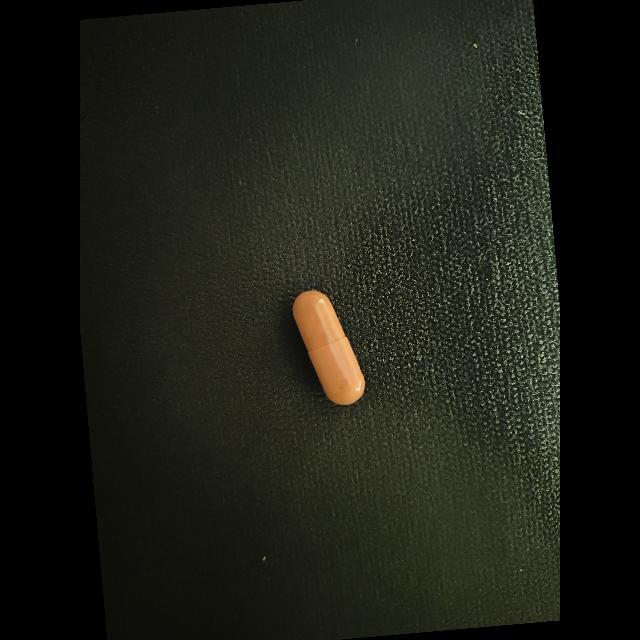Intact Capsule: (293, 290, 365, 405)
